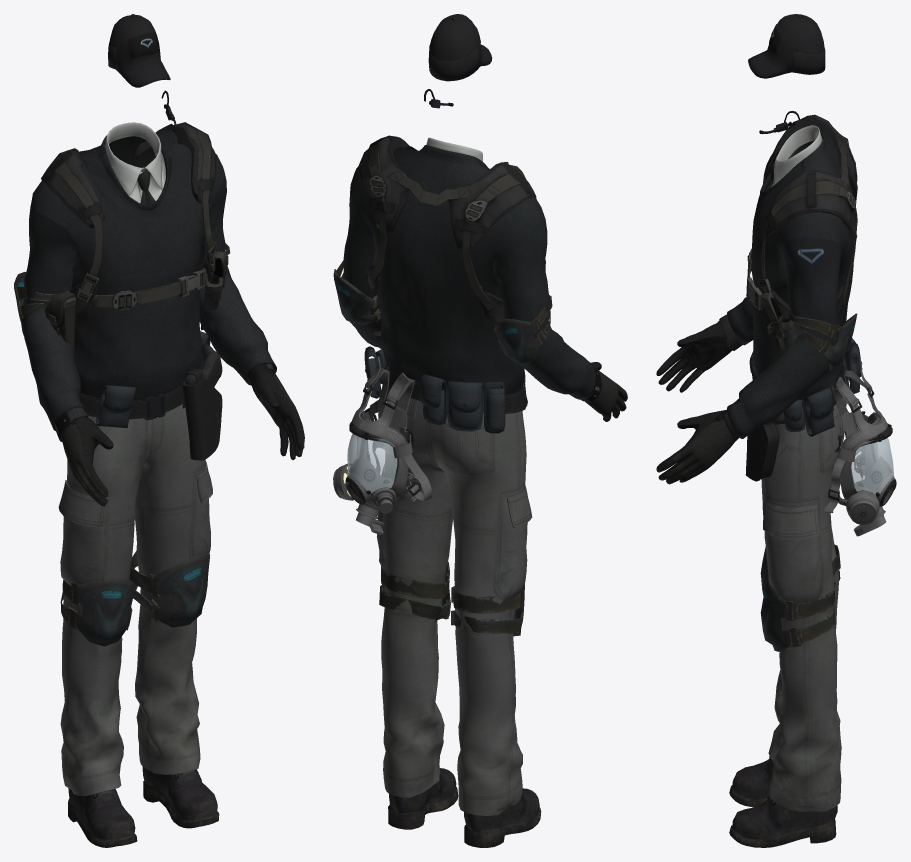
Rendered from clothes_kit.glb.
The picture shows the model from 3 angles, left to right: view 1: azimuth 30°, elevation 25°; view 2: azimuth 150°, elevation 25°; view 3: azimuth 270°, elevation 25°; orthographic projection.
Visible parts, largest first — view 1: sweater, pants, vest, kneepads, boots, gloves, pouchA, cap, shirt, harnessB, belt, elbowpads; view 2: pants, sweater, vest, gasmask, boots, harnessC, kneepads, elbowpads, cap, visor, gloves, belt; view 3: pants, sweater, vest, gasmask, gloves, boots, cap, kneepads, harnessC, visor, elbowpads, pouchA (+1 smaller).
Boxes of the visible parts, x1,y1,x2,y2 form: sweater: (21,130,276,430); pants: (58,404,212,795); vest: (41,122,227,357); kneepads: (60,551,209,646); boots: (68,766,219,847); gloves: (61,363,304,506); pouchA: (182,351,222,460); cap: (108,14,170,87); shirt: (104,122,165,203); harnessB: (96,385,135,428); belt: (80,360,202,419); elbowpads: (14,243,230,321); pants: (377,389,532,815); sweater: (343,145,597,399); vest: (358,135,536,335); gasmask: (333,356,432,534); boots: (388,768,541,847); harnessC: (364,346,505,433); kneepads: (379,561,524,636); elbowpads: (333,260,552,365); cap: (428,14,492,81); visor: (347,434,397,492); gloves: (585,362,627,421); belt: (383,364,525,413); pants: (761,397,846,811); sweater: (727,128,853,438); vest: (746,114,857,356); gasmask: (824,360,896,536); gloves: (656,321,739,484); boots: (729,756,837,847); cap: (748,14,825,78); kneepads: (760,544,840,651); harnessC: (783,338,862,436); visor: (851,437,894,495); elbowpads: (789,235,857,371); pouchA: (745,412,784,481).
Bounding box in the file's own units: 0.5569 × 1.91 × 0.5176.
14 materials, 14 textured.
